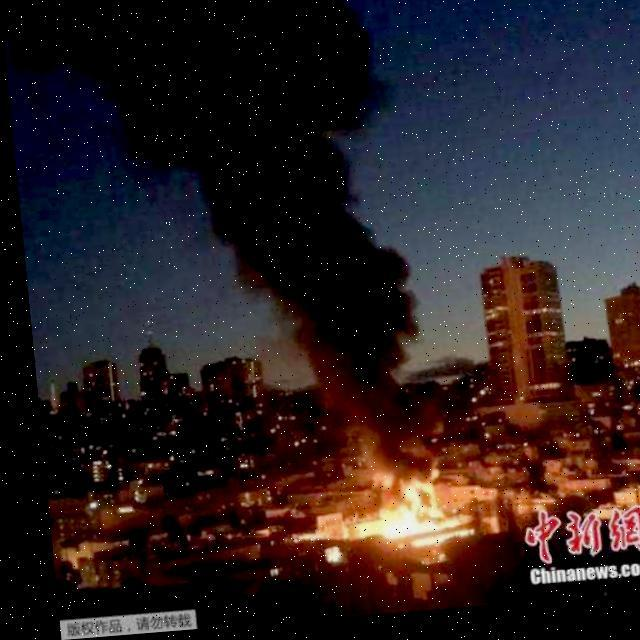Fire: (330, 464, 468, 557)
